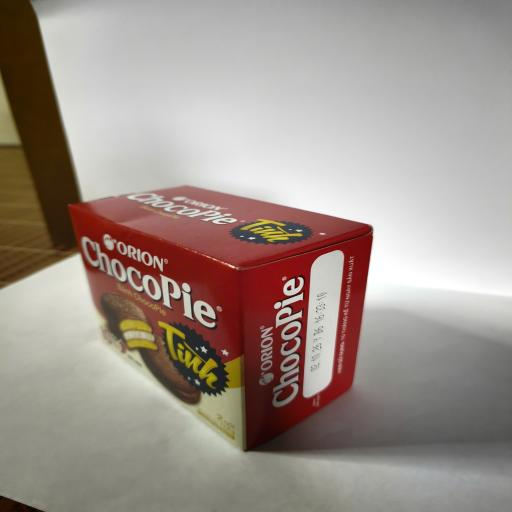chocopie: (68, 185, 374, 451)
